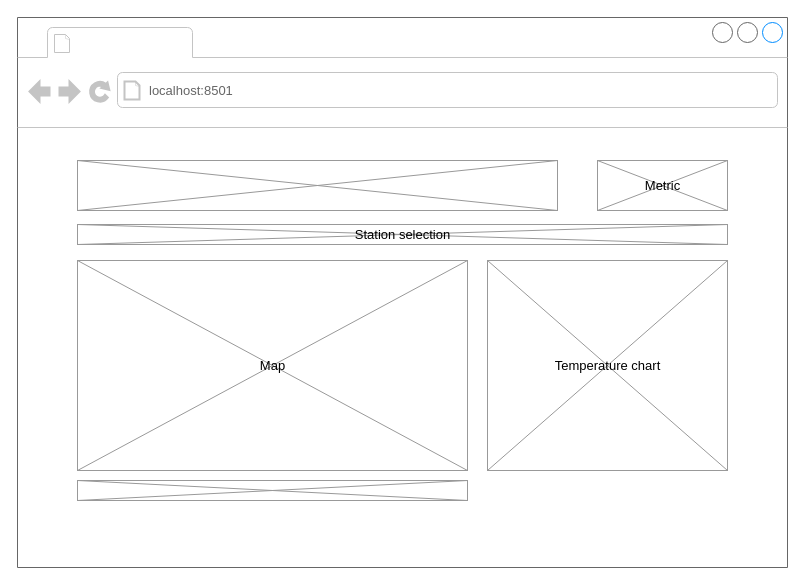
Image size: 805x585. Some labels were removed from this diagram. Here are the shapes that lost their labels. From the top down, the box of each, then its label:
(76, 28, 188, 56): weather: Streamlit
(76, 160, 558, 210): Title
(76, 480, 468, 500): Location search bar
